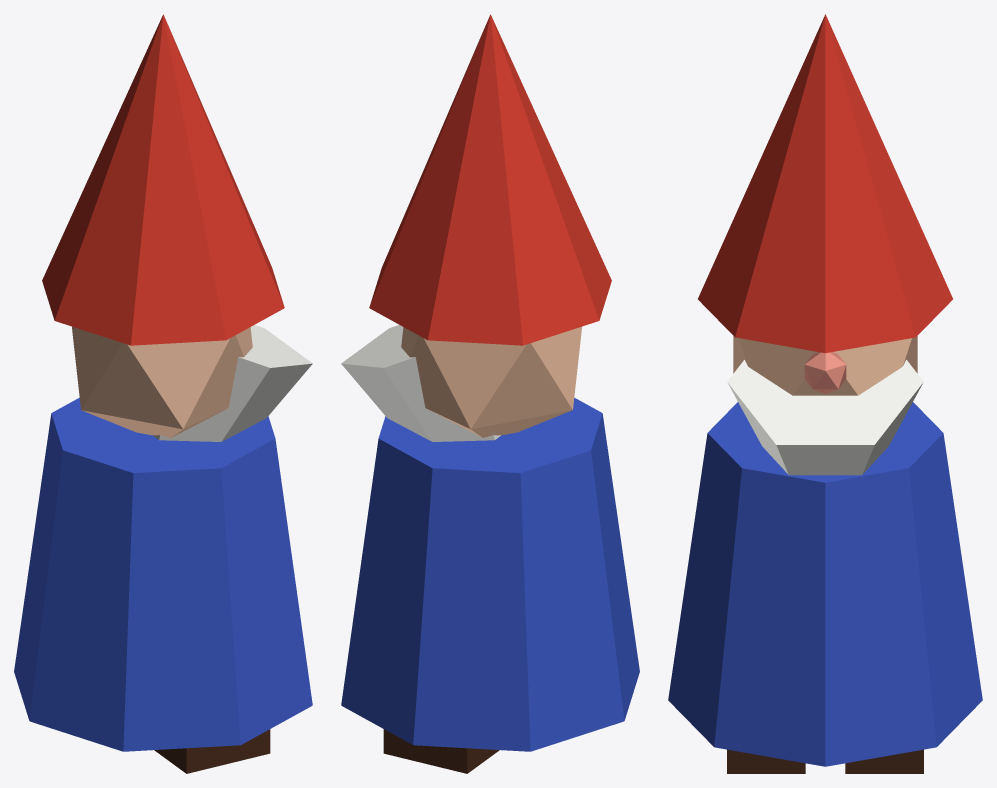
File: gnome.glb
3 views of the same model, side by side, from view 1: azimuth 30°, elevation 25°; view 2: azimuth 150°, elevation 25°; view 3: azimuth 270°, elevation 25° (orthographic).
Visible parts, largest first — view 1: gnome; view 2: gnome; view 3: gnome.
Part boxes in pixels (x1,y1,x2,y2): gnome: (14, 14, 312, 773); gnome: (341, 14, 639, 773); gnome: (668, 14, 982, 773).
Bounding box in the file's own units: 0.32 × 0.82 × 0.32.
